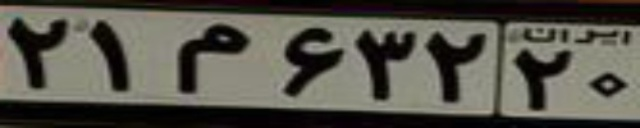0: (585, 72, 628, 98)
1: (88, 17, 129, 91)
2: (5, 16, 74, 89), (426, 31, 484, 103), (511, 48, 573, 110)
3: (353, 29, 414, 100)
6: (279, 26, 342, 95)
mim: (170, 22, 249, 94)
